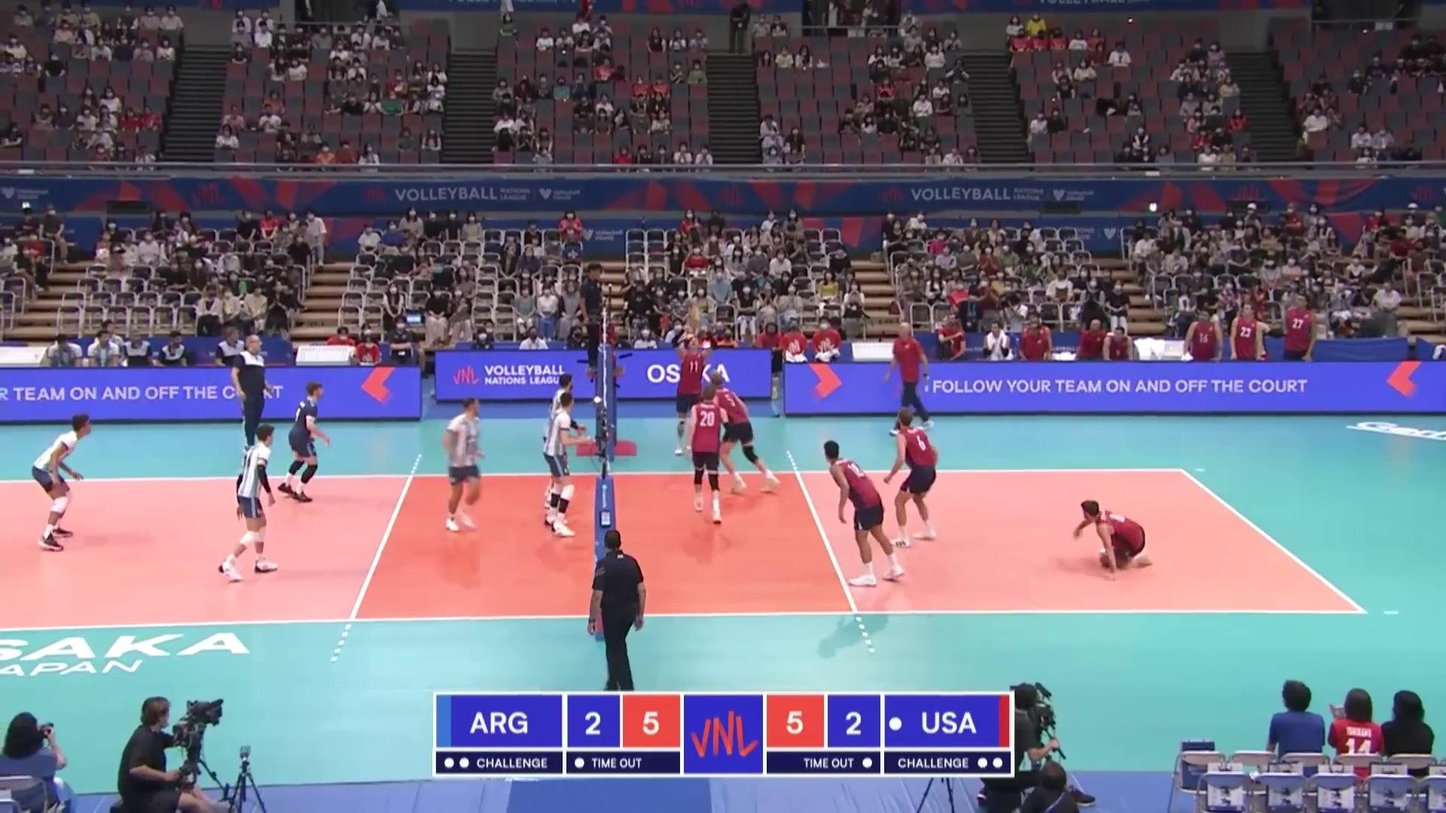player: (822, 440, 907, 589), (705, 372, 781, 495), (28, 411, 92, 553), (220, 426, 279, 580), (881, 411, 939, 547), (682, 383, 730, 527), (1074, 497, 1157, 579), (276, 383, 330, 503), (672, 329, 719, 455), (443, 397, 486, 532), (545, 393, 581, 539), (540, 373, 575, 512)
refree: (591, 536, 650, 694), (579, 263, 609, 370)
